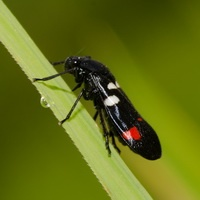insect: (33, 56, 161, 159)
